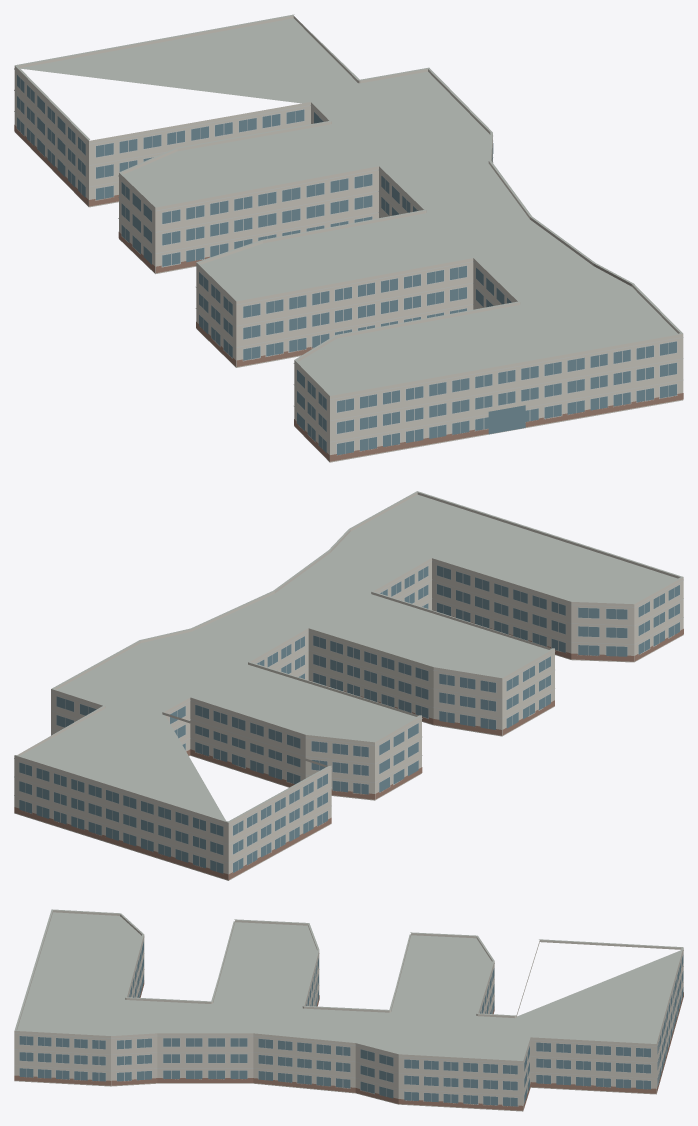
The model's file is public-275aced2-546b-40e8-9f59-06bdb021ed8d.glb.
The picture shows the model from 3 angles, top to bottom: view 1: azimuth 30°, elevation 25°; view 2: azimuth 150°, elevation 25°; view 3: azimuth 270°, elevation 25°; orthographic projection. The views are drawn at different scales.
Parts seen in each view (by area): view 1: public-275aced2-546b-40e8-9f59-06bdb021ed8d; view 2: public-275aced2-546b-40e8-9f59-06bdb021ed8d; view 3: public-275aced2-546b-40e8-9f59-06bdb021ed8d.
Boxes of the visible parts, left/top/right/bottom form: public-275aced2-546b-40e8-9f59-06bdb021ed8d: left=14, top=14, right=683, bottom=462; public-275aced2-546b-40e8-9f59-06bdb021ed8d: left=14, top=491, right=683, bottom=880; public-275aced2-546b-40e8-9f59-06bdb021ed8d: left=14, top=909, right=683, bottom=1111.
Bounding box in the file's own units: 59.21 × 9.15 × 110.
